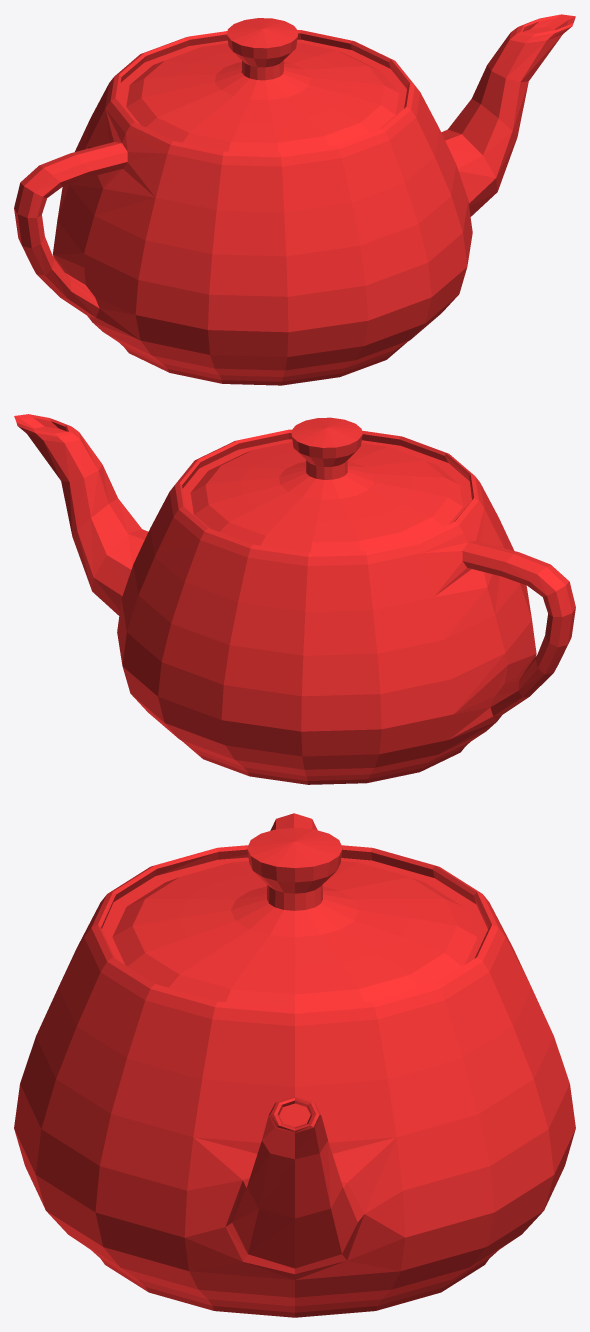
The model's file is Teapot.dae.
The picture shows the model from 3 angles, top to bottom: view 1: azimuth 30°, elevation 25°; view 2: azimuth 150°, elevation 25°; view 3: azimuth 270°, elevation 25°; orthographic projection. The views are drawn at different scales.
Parts seen in each view (by area): view 1: Group__0; view 2: Group__0; view 3: Group__0.
Part boxes in pixels (bbox=[...]): Group__0: bbox=[14, 14, 575, 385]; Group__0: bbox=[14, 414, 575, 784]; Group__0: bbox=[14, 813, 575, 1317].
Size of the model in its own units: 42571 by 27843 by 21841.
